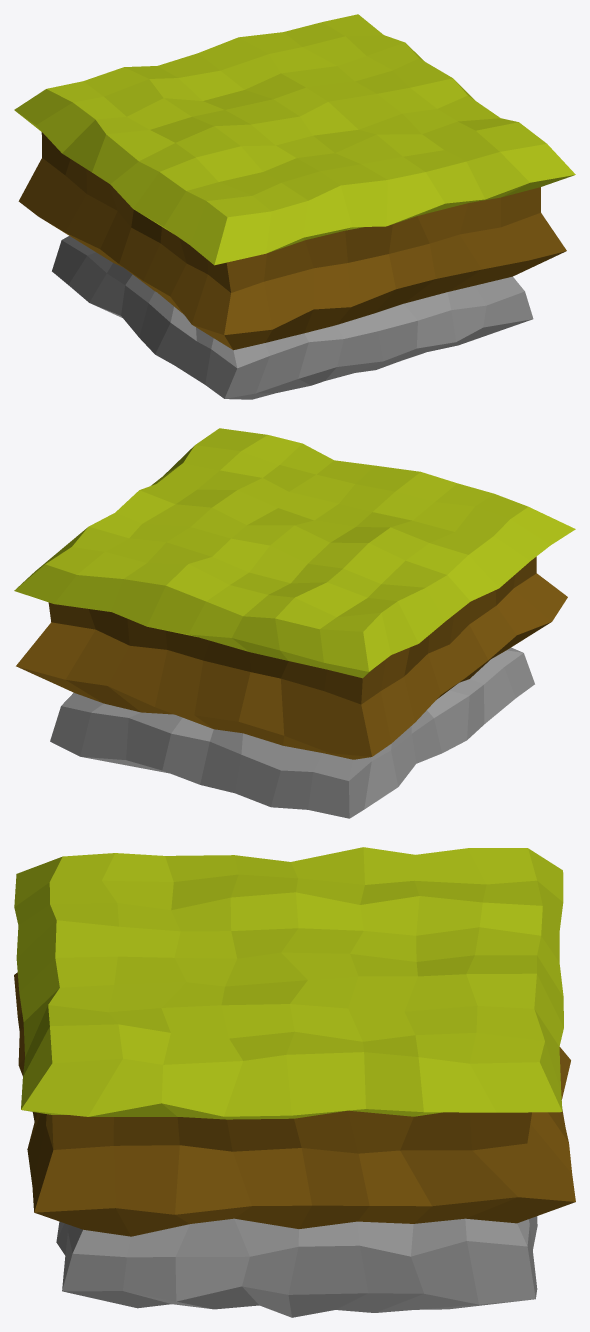
File: land.fbx
3 renders of one model, top to bottom at view 1: azimuth 30°, elevation 25°; view 2: azimuth 150°, elevation 25°; view 3: azimuth 270°, elevation 25°, orthographic. The views are drawn at different scales.
Parts seen in each view (by area): view 1: Plane; view 2: Plane; view 3: Plane.
Boxes of the visible parts, box(x1,y1,x2,y2) form: Plane: box(14, 14, 575, 399); Plane: box(14, 428, 575, 818); Plane: box(14, 847, 575, 1317).
Size of the model in its own units: 2373 by 1394 by 2334.
